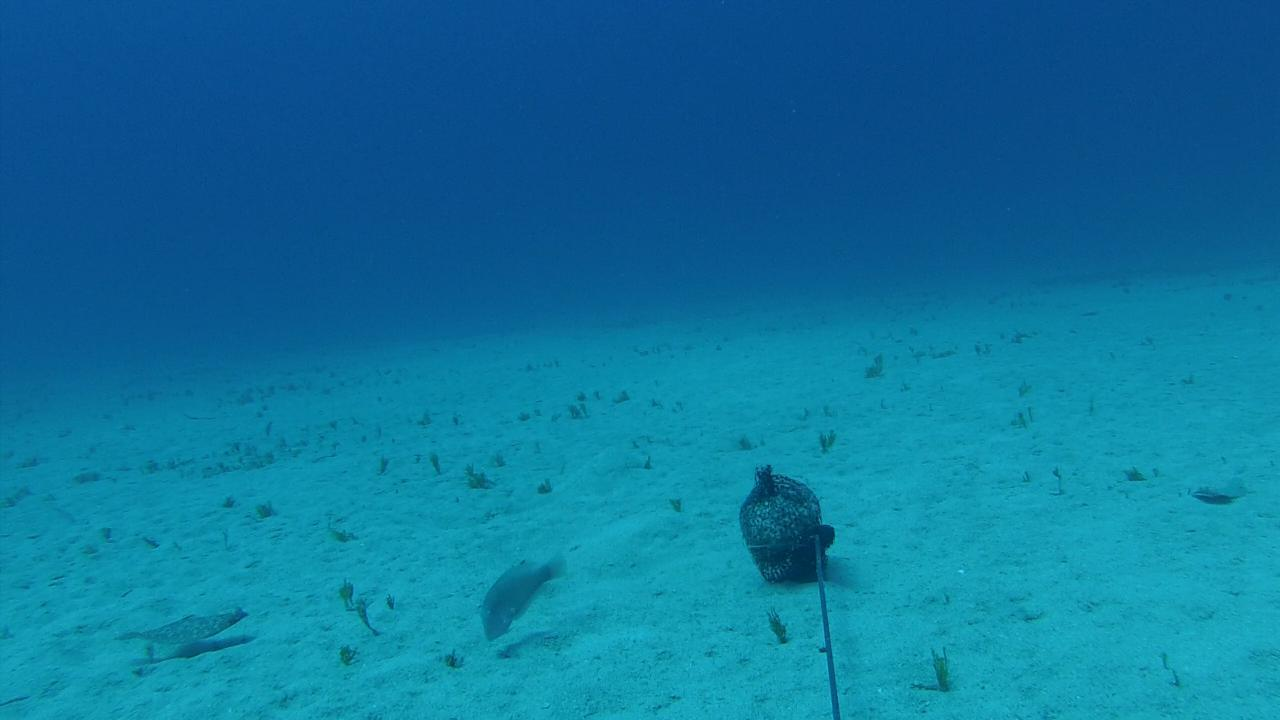bothus: (114, 606, 256, 659), (1192, 477, 1254, 501)
raor: (477, 551, 567, 648)
